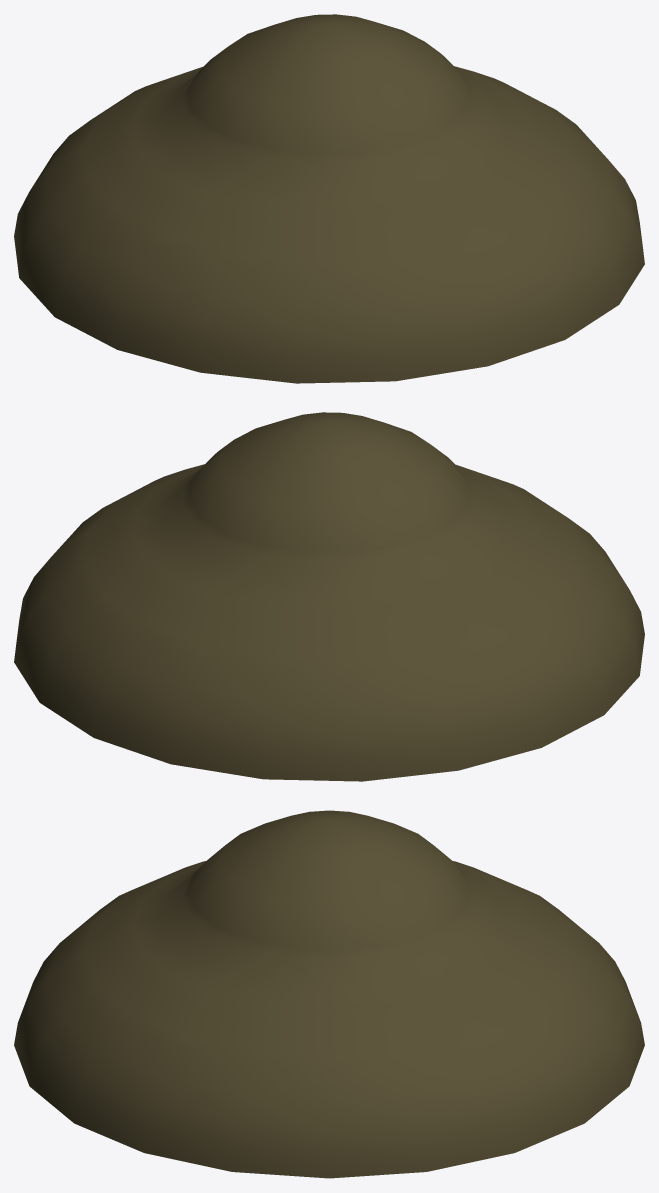
Rendered from Poop.fbx.
3 views of the same model, one above another, from view 1: azimuth 30°, elevation 25°; view 2: azimuth 150°, elevation 25°; view 3: azimuth 270°, elevation 25° (orthographic).
Visible parts, largest first — view 1: pSphere4; view 2: pSphere4; view 3: pSphere4.
Part boxes in pixels (box(x1,y1,x2,y2)): pSphere4: box(14, 14, 644, 383); pSphere4: box(14, 412, 644, 781); pSphere4: box(14, 810, 644, 1178).
Size of the model in its own units: 1.01 by 0.3971 by 1.01.
